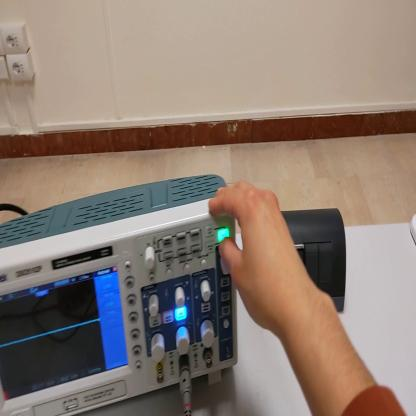hand: (208, 180, 304, 334)
oscilloscope: (2, 175, 242, 416)
